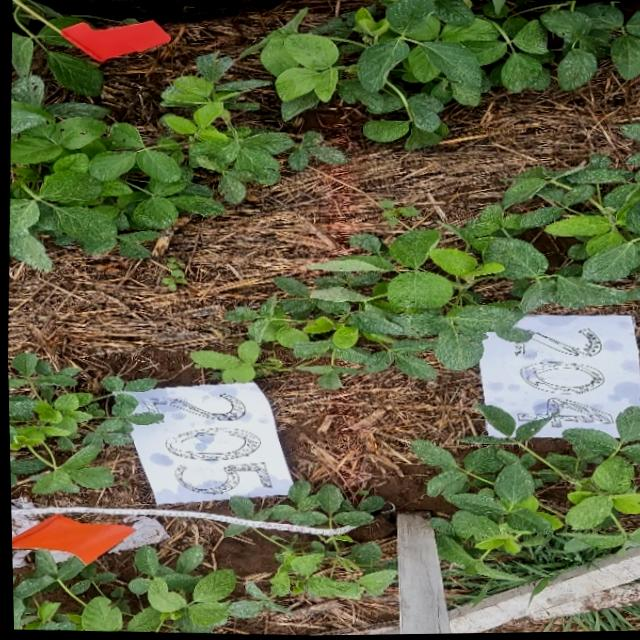caruru_weed: (433, 534, 608, 604), (556, 606, 640, 634), (377, 200, 417, 226), (159, 256, 183, 291)
soy_plant: (7, 0, 640, 270), (190, 158, 640, 389), (410, 410, 640, 586), (10, 534, 392, 634), (6, 354, 155, 492), (227, 482, 382, 528)
